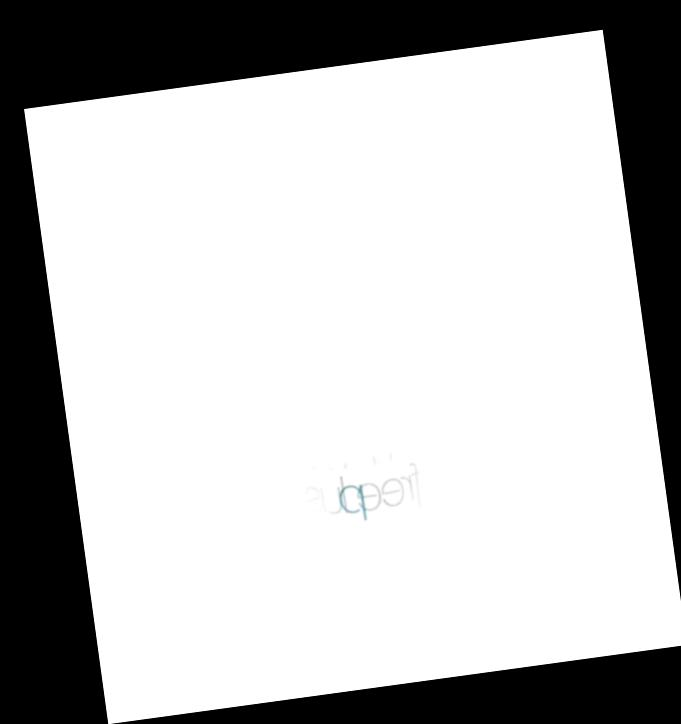cosmetic: (195, 91, 485, 654)
